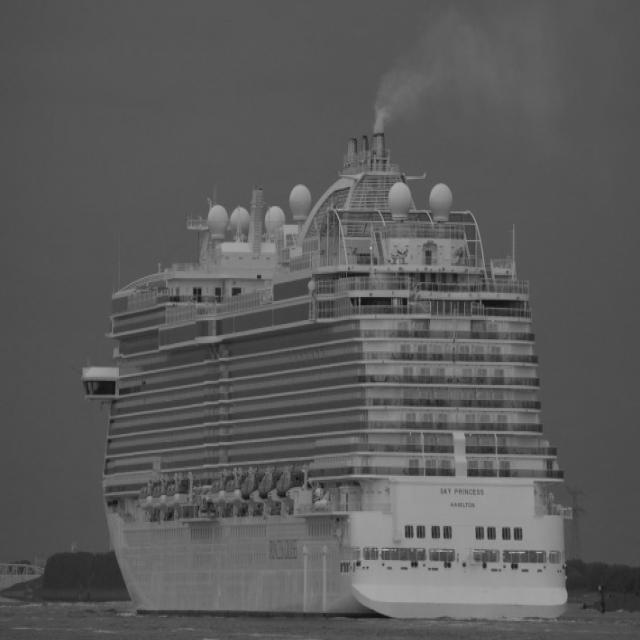cruises: (79, 134, 577, 631)
